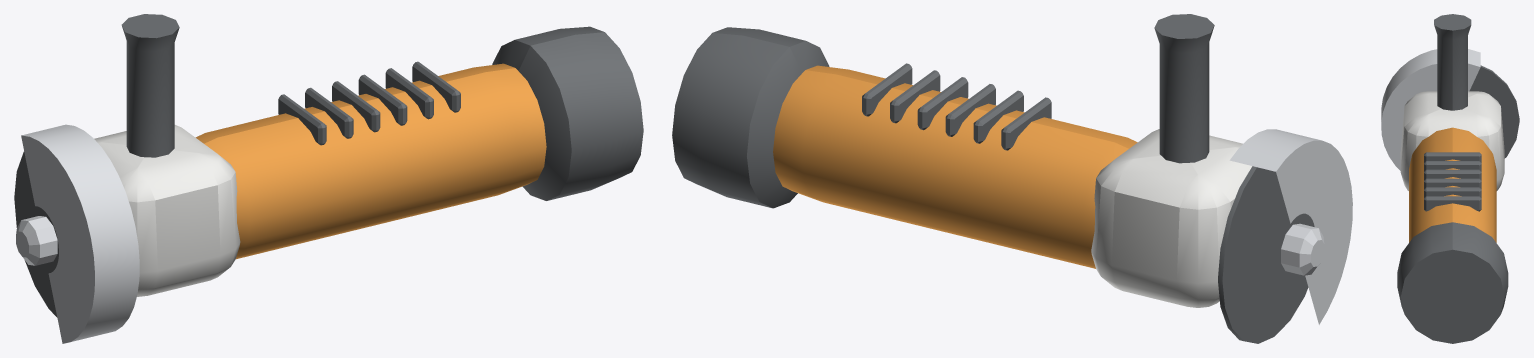
The picture shows the model from 3 angles, left to right: view 1: azimuth 30°, elevation 25°; view 2: azimuth 150°, elevation 25°; view 3: azimuth 270°, elevation 25°; orthographic projection. The views are drawn at different scales.
Visible parts, largest first — view 1: angle-grinder; view 2: angle-grinder; view 3: angle-grinder.
Boxes of the visible parts, left/top/right/bottom form: angle-grinder: left=14, top=14, right=643, bottom=343; angle-grinder: left=672, top=14, right=1352, bottom=343; angle-grinder: left=1381, top=14, right=1519, bottom=343.
Size of the model in its own units: 0.391 by 0.178 by 0.1199.
